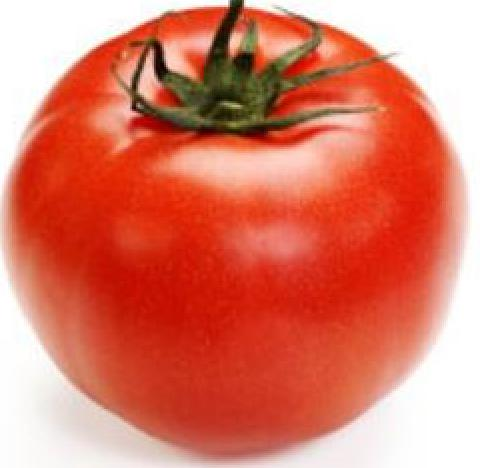tomato: (12, 7, 467, 453)
